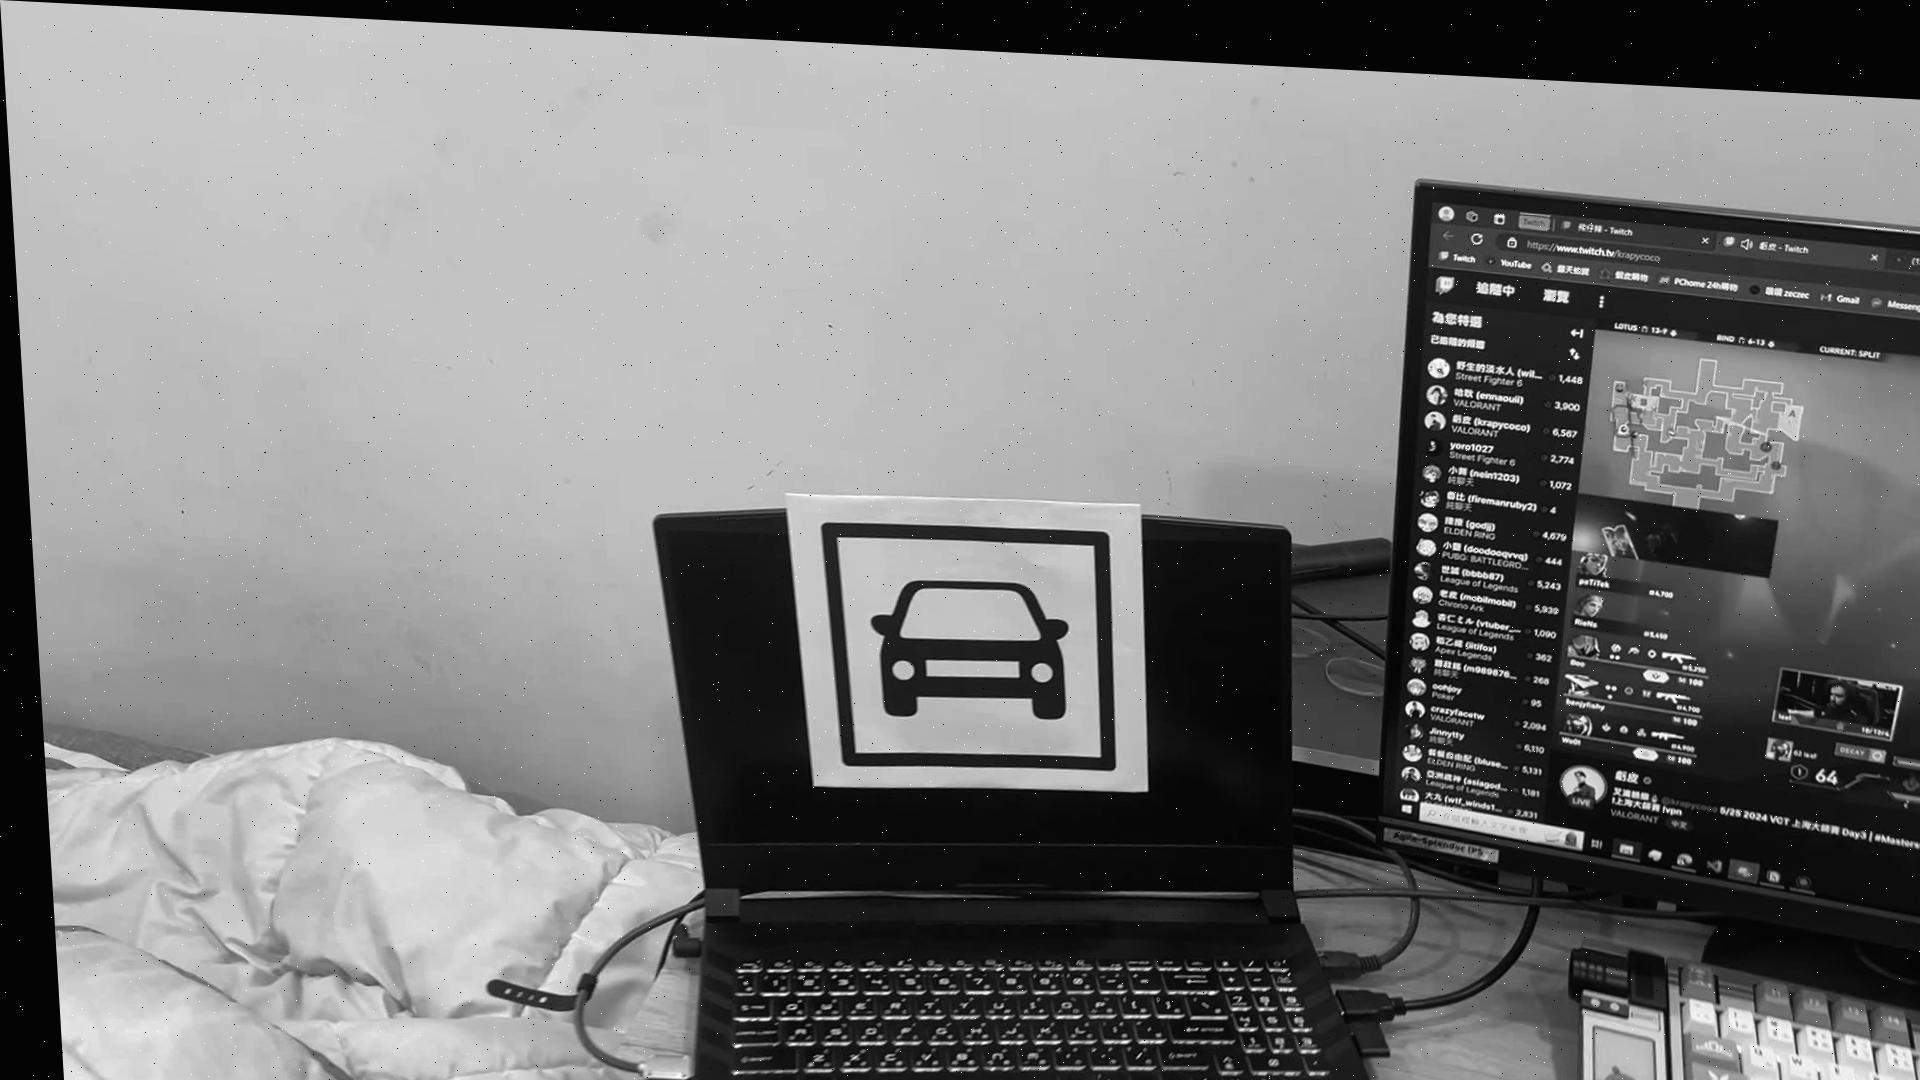car_img: (811, 505, 1118, 771)
